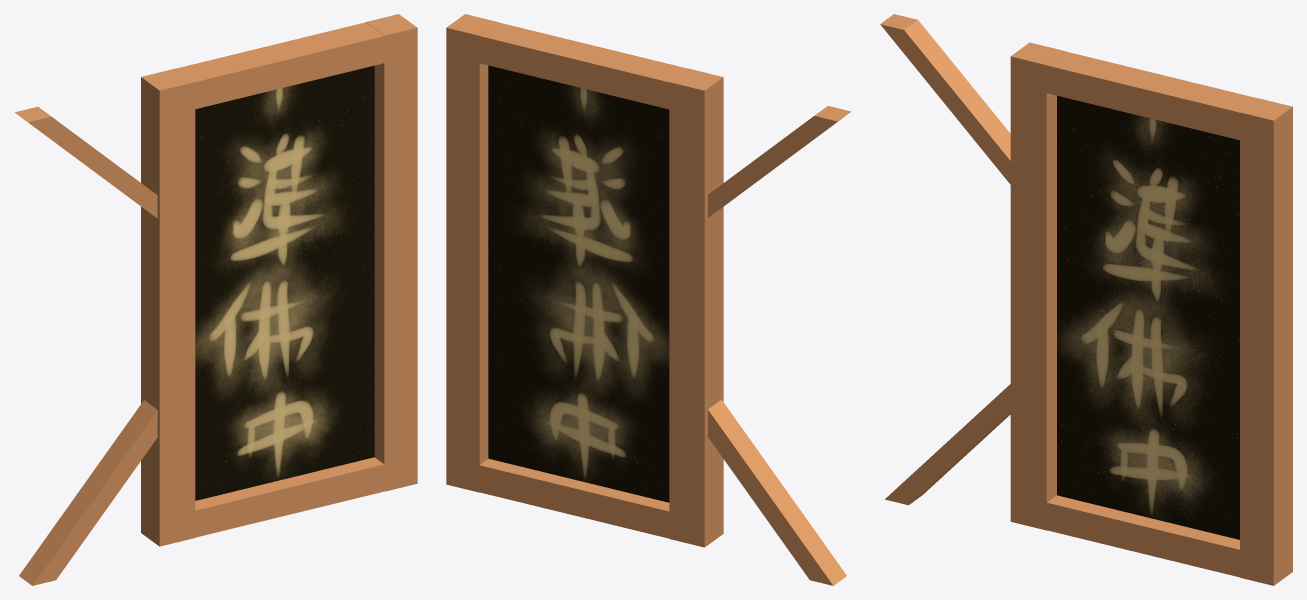
The model's file is sign1.fbx.
The picture shows the model from 3 angles, left to right: view 1: azimuth 30°, elevation 25°; view 2: azimuth 150°, elevation 25°; view 3: azimuth 330°, elevation 25°; orthographic projection. The views are drawn at different scales.
Visible parts, largest first — view 1: Cube.006; view 2: Cube.006; view 3: Cube.006.
Part boxes in pixels (x1,y1,x2,y2): Cube.006: [15, 14, 417, 585]; Cube.006: [446, 14, 851, 585]; Cube.006: [880, 14, 1292, 585].
Bounding box in the file's own units: 225 × 258 × 18.82.
